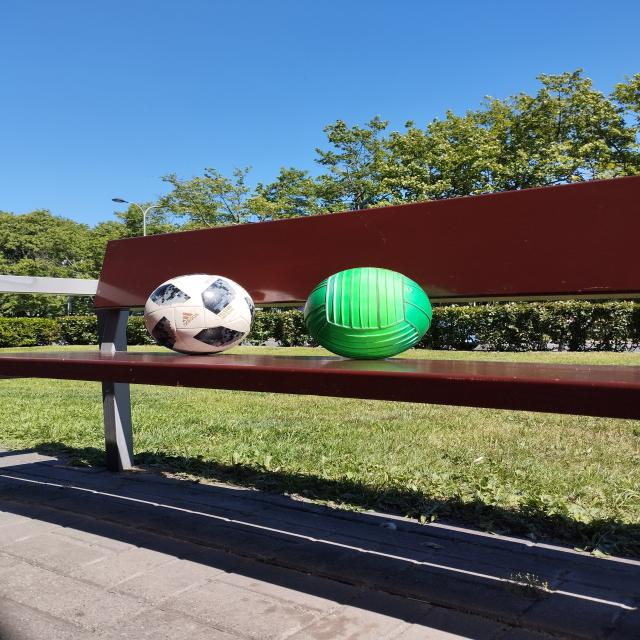nozna: (144, 273, 255, 356)
zielona: (303, 267, 433, 361)
